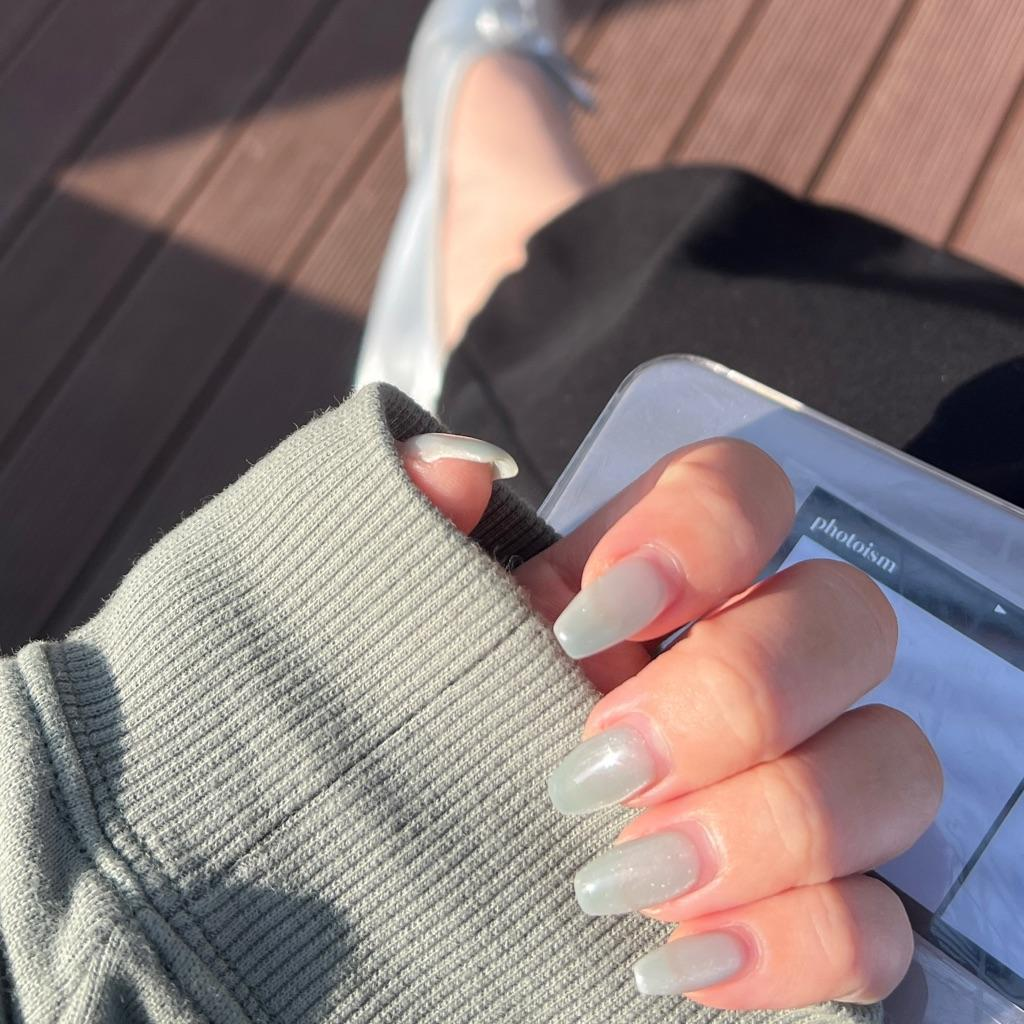nail: (551, 544, 685, 660), (572, 828, 701, 917), (545, 723, 659, 816), (631, 926, 749, 997), (401, 430, 519, 481)
